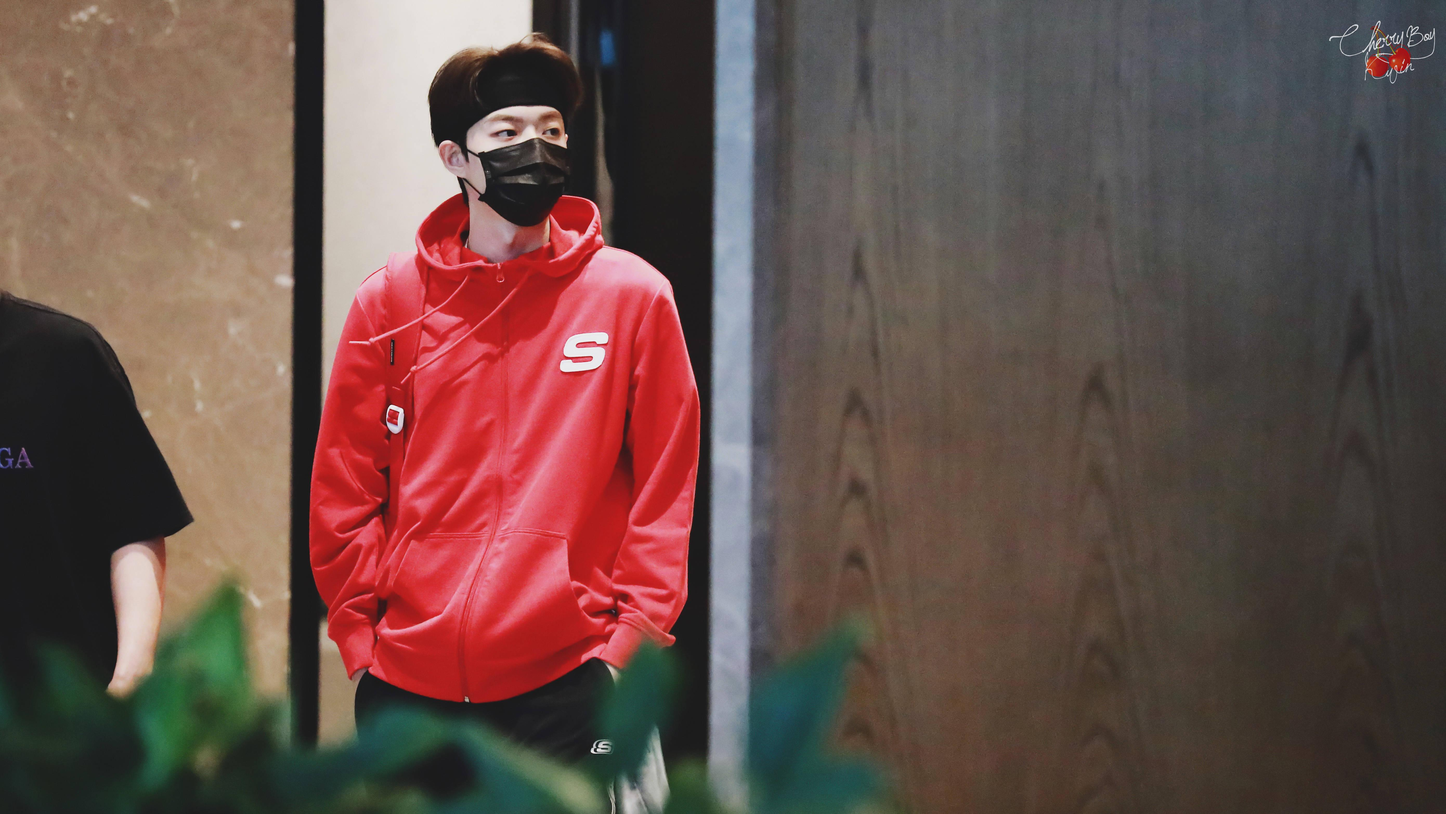OK: (471, 104, 572, 227)
